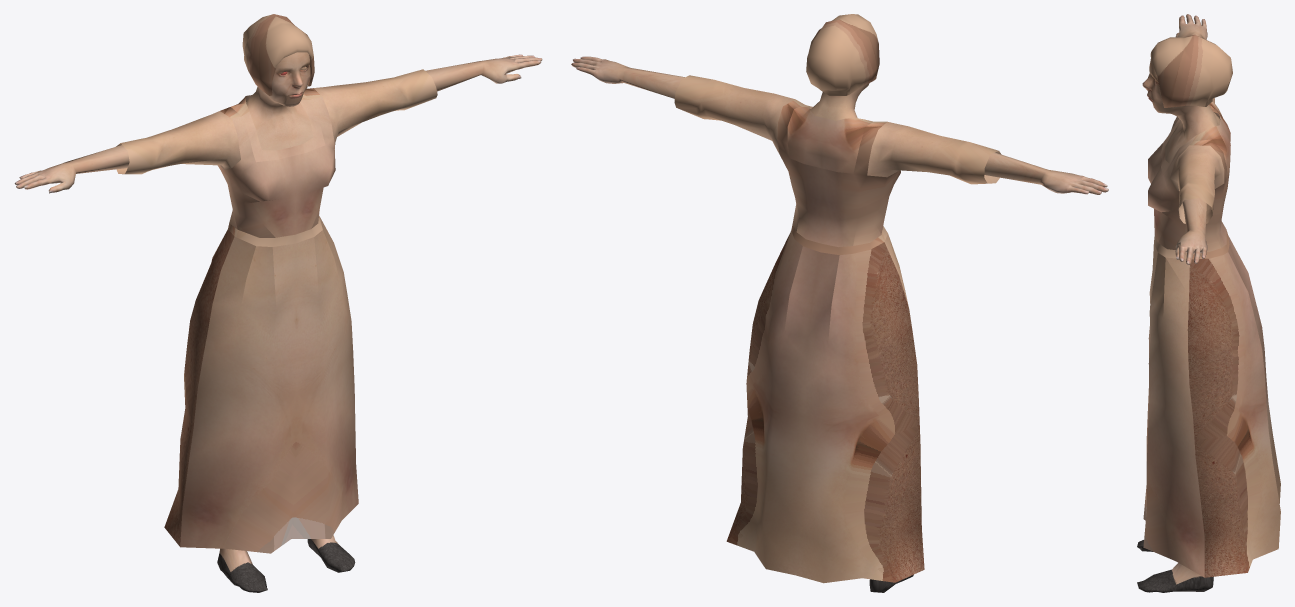
The model's file is Civil_mulher 3.fbx.
3 renders of one model, left to right at view 1: azimuth 30°, elevation 25°; view 2: azimuth 150°, elevation 25°; view 3: azimuth 270°, elevation 25°, orthographic. The views are drawn at different scales.
Parts seen in each view (by area): view 1: Roupa, Corpo; view 2: Roupa, Corpo; view 3: Roupa, Corpo.
Part boxes in pixels (left/top/right/bottom): Roupa: left=116, top=14, right=437, bottom=553; Corpo: left=14, top=52, right=542, bottom=592; Roupa: left=674, top=14, right=1001, bottom=583; Corpo: left=571, top=56, right=1108, bottom=592; Roupa: left=1143, top=35, right=1280, bottom=577; Corpo: left=1137, top=14, right=1220, bottom=592.
Size of the model in its own units: 170 by 169 by 41.39.
